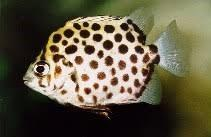Scat Fish: (22, 5, 192, 121)
